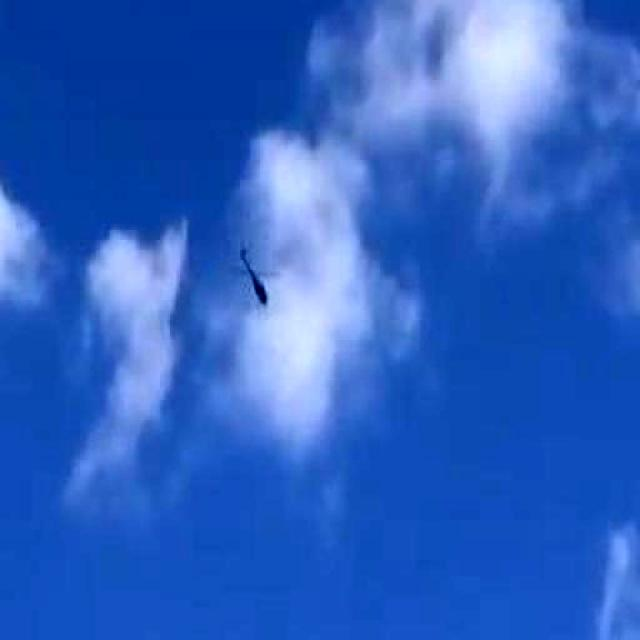drone: (212, 228, 290, 325)
